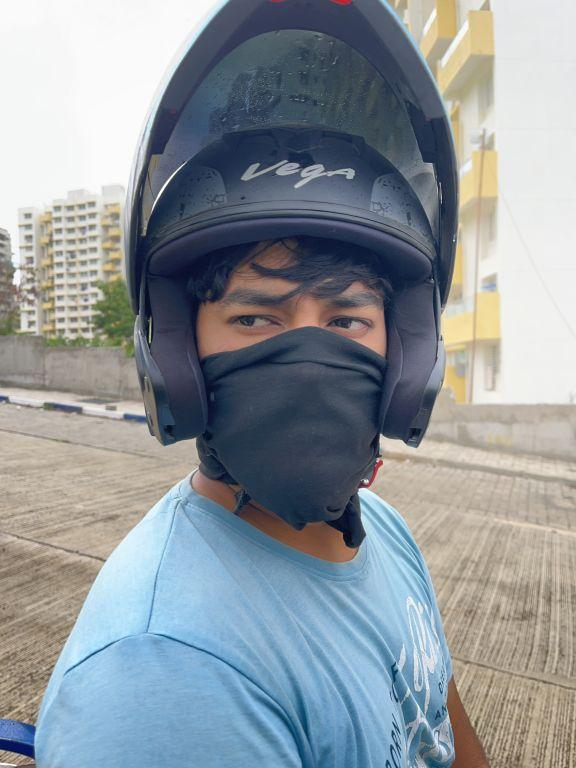helmet: (105, 0, 472, 551)
